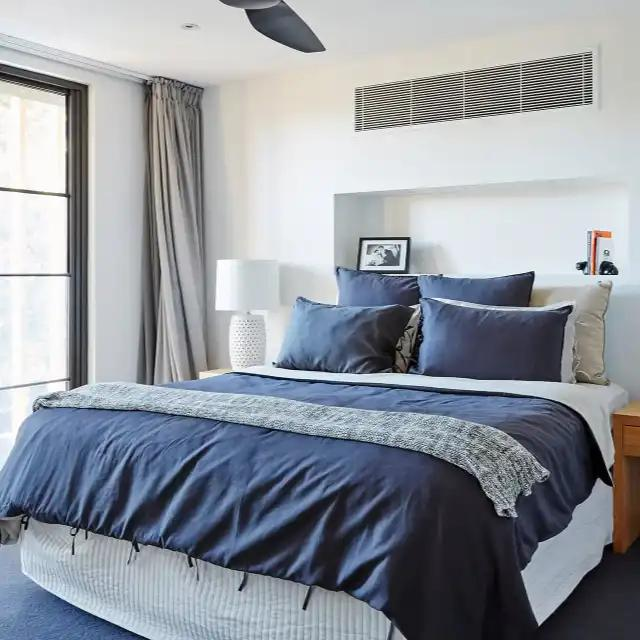bed: (13, 370, 634, 640)
lamp: (209, 255, 286, 383)
pillow: (420, 280, 613, 375), (420, 299, 580, 393), (284, 298, 411, 382)
window: (0, 84, 82, 395)
